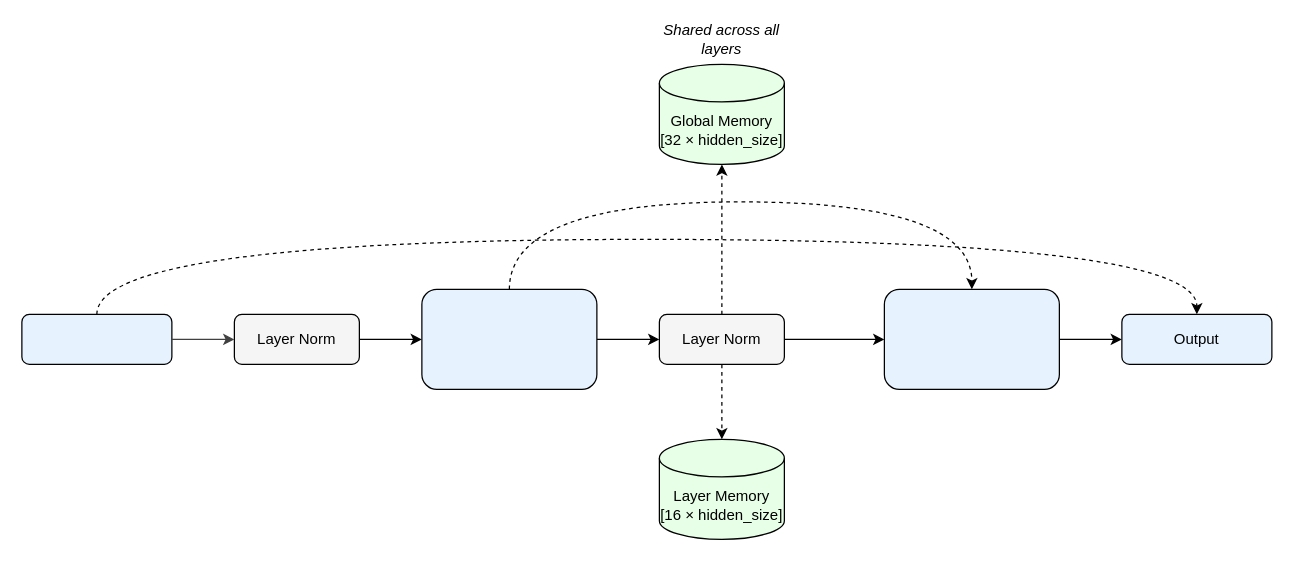
Some shapes in this 1294 by 561 pixel diagram are drawn without their labels. Here are the shapes that lost their labels. From the top down, the centre of each, then its label:
[96,338]: Hidden States
[509,338]: Multi-Head Attention
[971,338]: MLP
